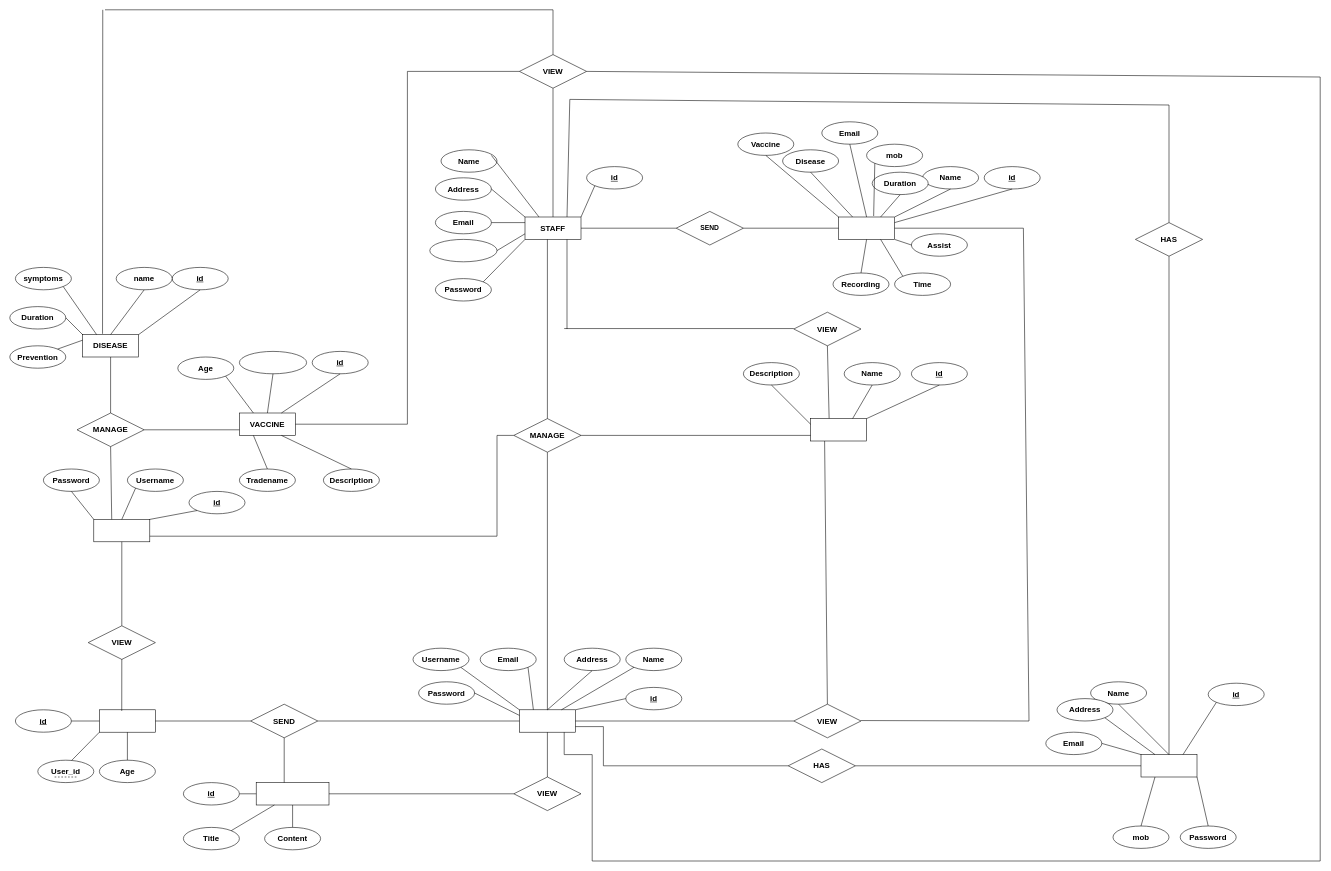
Some shapes in this 1331 by 871 pixel diagram are drawn without their labels. The centre of each missing label's shape, as x and y in pixels:
"ADMIN" belongs at (121,530).
"ANNOUNCEMENT" belongs at (292,793).
"ASSISTANCE" belongs at (866,227).
"FEEDBACK" belongs at (127,720).
"MEDICINE" belongs at (838,429).
"Mobile_number" belongs at (463,250).
"REGISTER" belongs at (1168,765).
"USER" belongs at (547,720).
"Vaccine_name" belongs at (273,362).
